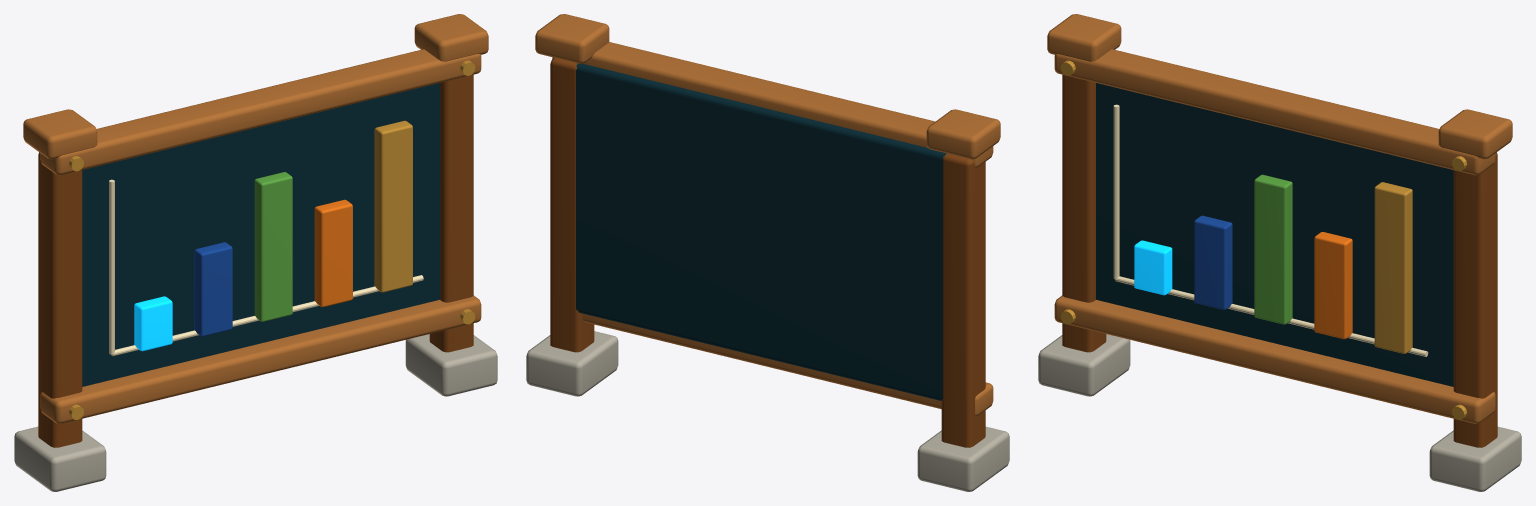
The model's file is OBJ36_histogram_display.glb.
3 renders of one model, left to right at view 1: azimuth 30°, elevation 25°; view 2: azimuth 150°, elevation 25°; view 3: azimuth 330°, elevation 25°, orthographic.
Parts seen in each view (by area): view 1: Slate panel, Horizontal oak rail.001, Horizontal oak rail, Timber post, Timber post.001, Bar_4, Bar_2, Board foot, Board foot.001, Bar_3, Bar_1, Post cap (+4 smaller); view 2: Slate panel, Timber post, Horizontal oak rail.001, Timber post.001, Board foot.001, Board foot, Horizontal oak rail, Post cap, Post cap.001; view 3: Slate panel, Horizontal oak rail.001, Horizontal oak rail, Timber post.001, Timber post, Bar_4, Bar_2, Board foot.001, Board foot, Bar_3, Bar_1, Post cap.001 (+4 smaller).
Part boxes in pixels (bbox=[...]): Slate panel: bbox=[82, 83, 439, 386]; Horizontal oak rail.001: bbox=[40, 49, 481, 175]; Horizontal oak rail: bbox=[40, 295, 481, 423]; Timber post: bbox=[38, 152, 82, 447]; Timber post.001: bbox=[429, 74, 473, 352]; Bar_4: bbox=[374, 120, 412, 292]; Bar_2: bbox=[254, 172, 292, 321]; Board foot: bbox=[14, 426, 106, 491]; Board foot.001: bbox=[405, 334, 497, 396]; Bar_3: bbox=[314, 199, 352, 307]; Bar_1: bbox=[194, 242, 232, 336]; Post cap: bbox=[23, 109, 97, 159]; Slate panel: bbox=[576, 63, 946, 400]; Timber post: bbox=[941, 153, 985, 447]; Horizontal oak rail.001: bbox=[552, 42, 993, 167]; Timber post.001: bbox=[550, 58, 594, 352]; Board foot.001: bbox=[526, 331, 618, 396]; Board foot: bbox=[917, 426, 1009, 491]; Horizontal oak rail: bbox=[583, 313, 993, 416]; Post cap: bbox=[926, 109, 1000, 159]; Post cap.001: bbox=[535, 14, 609, 63]; Slate panel: bbox=[1096, 83, 1453, 386]; Horizontal oak rail.001: bbox=[1054, 49, 1495, 175]; Horizontal oak rail: bbox=[1054, 295, 1495, 423]; Timber post.001: bbox=[1453, 152, 1497, 447]; Timber post: bbox=[1062, 74, 1106, 352]; Bar_4: bbox=[1374, 182, 1412, 353]; Bar_2: bbox=[1254, 174, 1292, 324]; Board foot.001: bbox=[1429, 426, 1521, 491]; Board foot: bbox=[1038, 334, 1130, 396]; Bar_3: bbox=[1314, 232, 1352, 339]; Bar_1: bbox=[1194, 215, 1232, 309]; Post cap.001: bbox=[1438, 109, 1512, 159].
Size of the model in its own units: 3.2 by 2.4 by 0.5.
